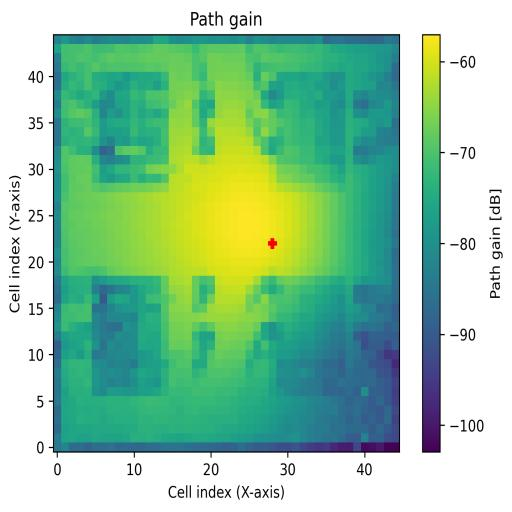Concrete: (276, 72, 346, 181)
Glass: (93, 71, 168, 191)
Metal: (276, 276, 346, 396)
Wood: (92, 276, 169, 396)
